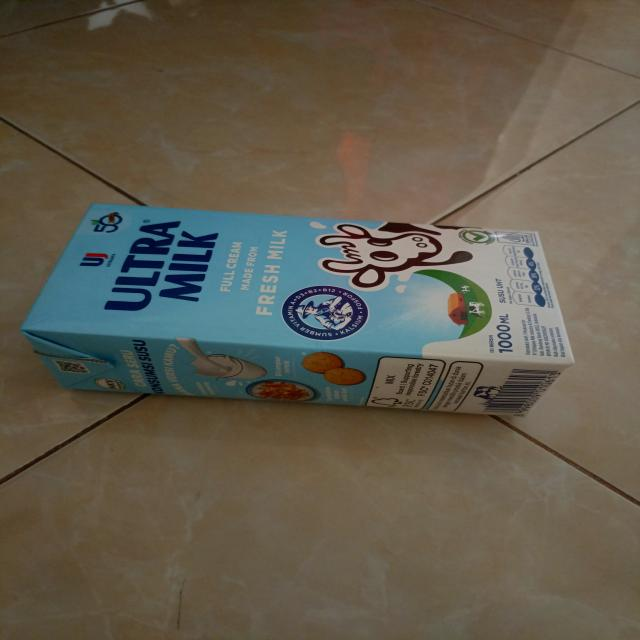ultramilk-full-cream: (18, 200, 576, 422)
